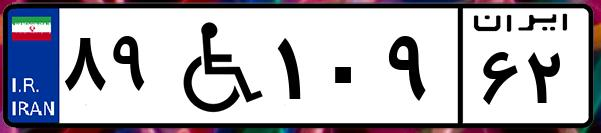0: (330, 28, 385, 110)
1: (270, 28, 330, 110)
2: (525, 38, 570, 115)
6: (475, 38, 525, 113)
8: (57, 26, 110, 100)
9: (385, 28, 445, 110), (110, 28, 158, 98)
ژ (معلولین و جانبازان): (158, 12, 270, 120)
